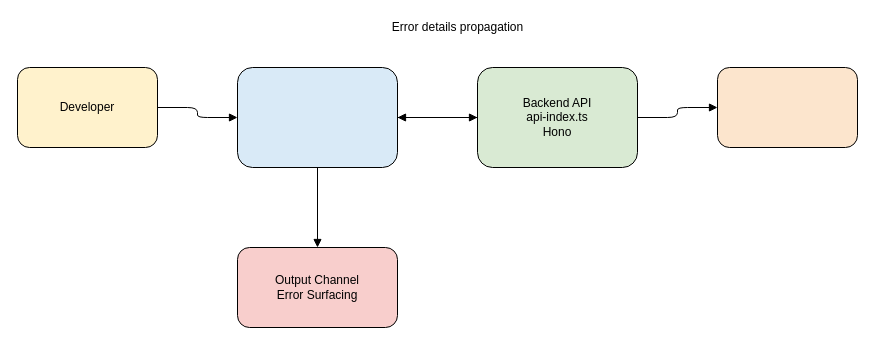
The diagram is 875 pixels wide and 345 high, and some of its shapes have lost their labels. The centre of each missing label's shape, as x and y in pixels:
"Knowledge Base SQLite/Postgres" belongs at point 787,107.
"VS Code Extension IndexerHttpClient IndexingService" belongs at point 317,117.
